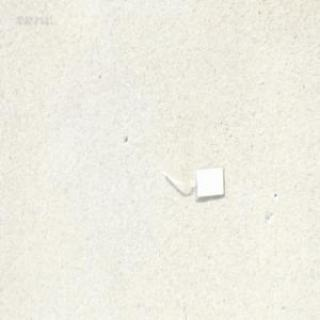LuggageTagtrack_idkeyframe: (162, 164, 224, 200)
